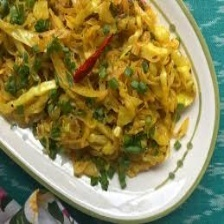sabzi: (0, 0, 195, 183)
